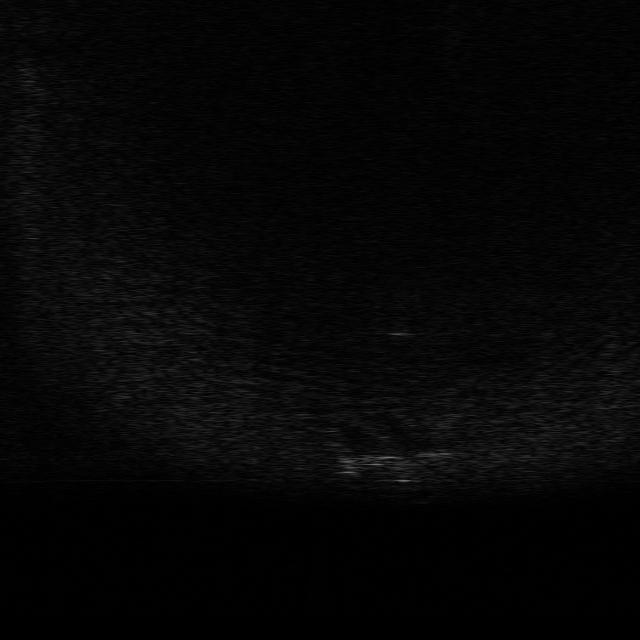plane: (325, 435, 459, 484)
